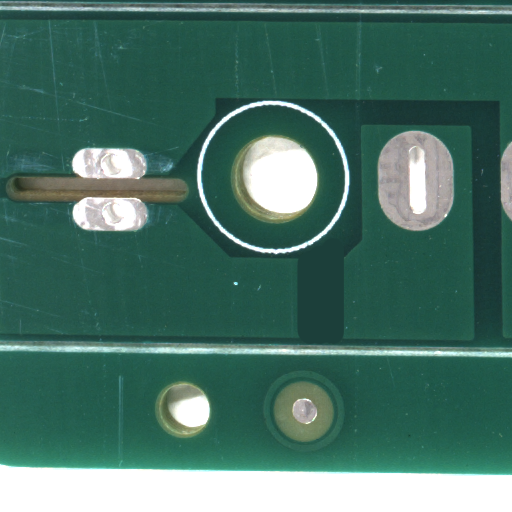Open_circuit: (321, 297, 375, 384)
